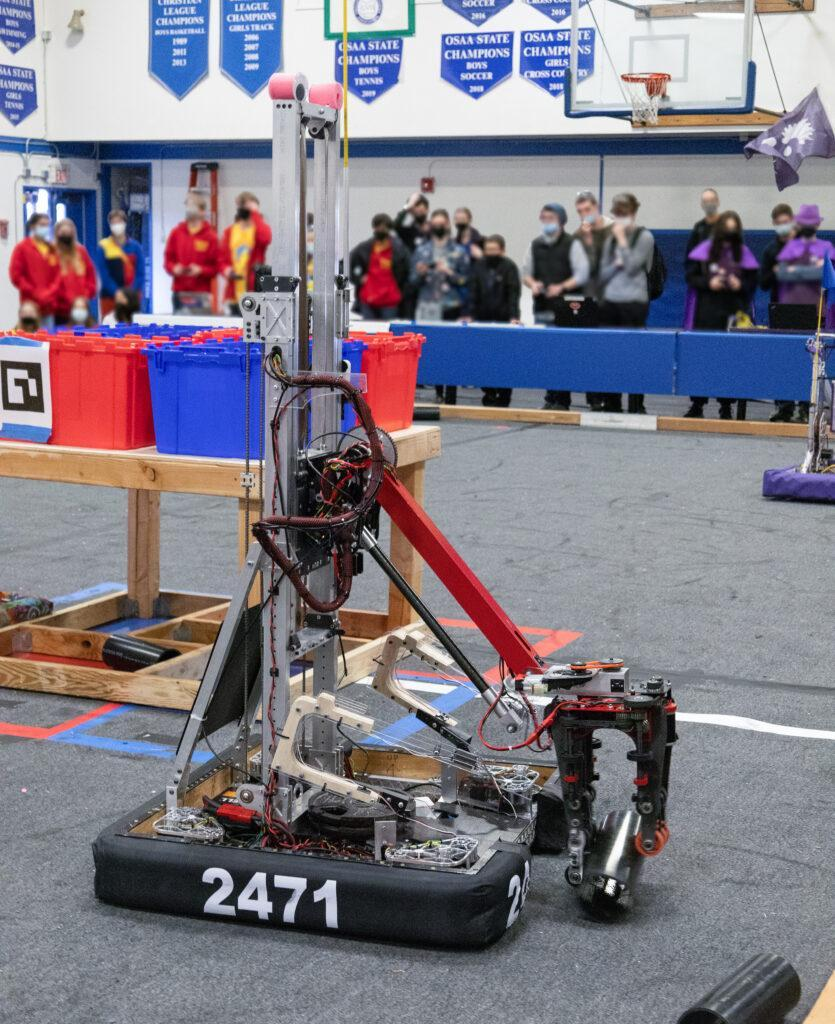robot: (88, 66, 690, 958)
